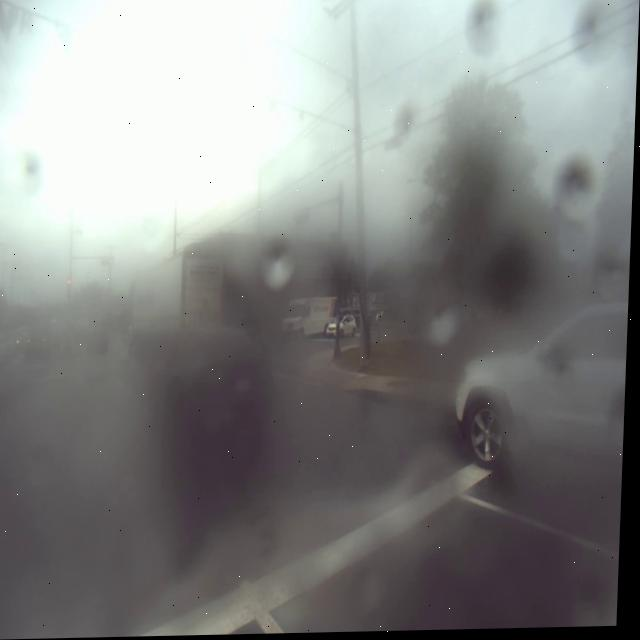car: (451, 269, 632, 475)
